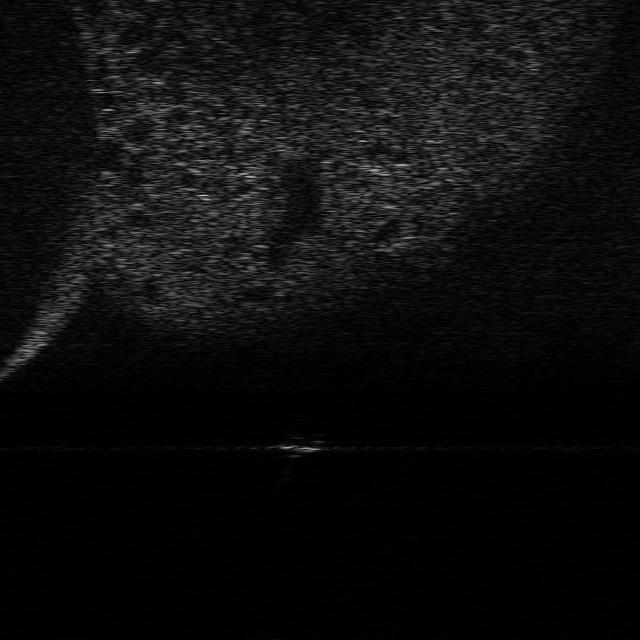cube: (278, 430, 322, 454)
